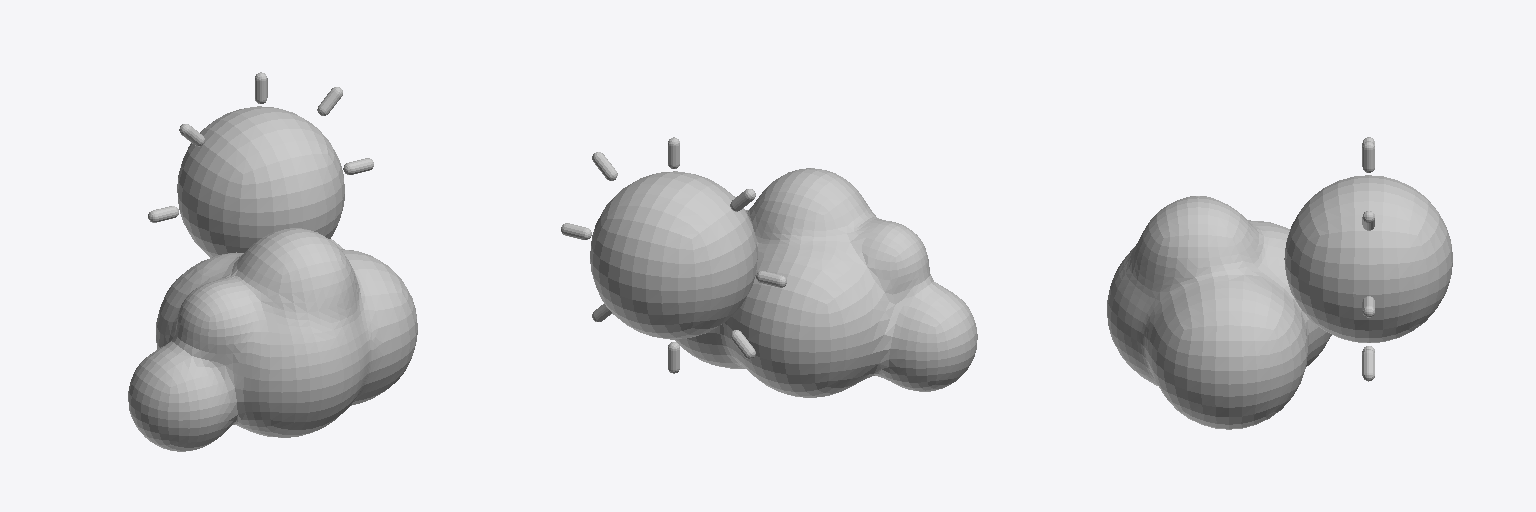
Rendered from cloud.obj.
3 views of the same model, side by side, from view 1: azimuth 30°, elevation 25°; view 2: azimuth 150°, elevation 25°; view 3: azimuth 270°, elevation 25° (orthographic).
Visible parts, largest first — view 1: weather; view 2: weather; view 3: weather.
Part boxes in pixels (x1,y1,x2,y2): weather: (128, 72, 417, 451); weather: (561, 137, 977, 397); weather: (1107, 137, 1452, 429).
Size of the model in its own units: 6.8 by 5.56 by 6.31.